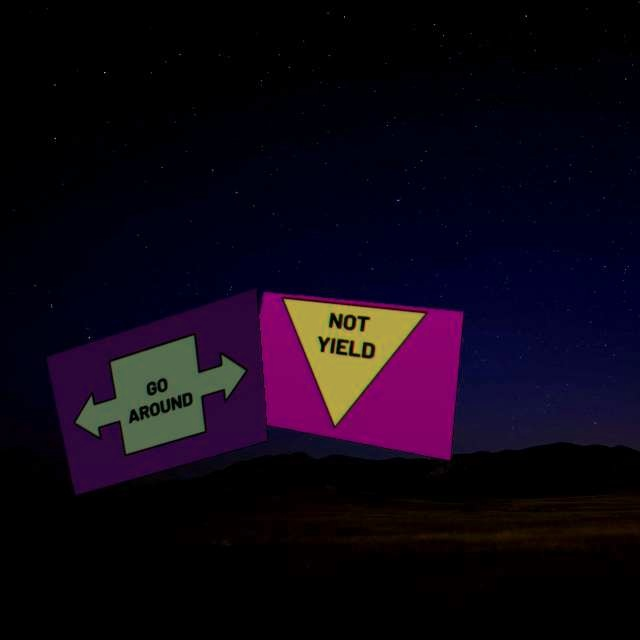GO_AROUND: (61, 318, 264, 468)
NOT_YIELD: (262, 292, 427, 444)
